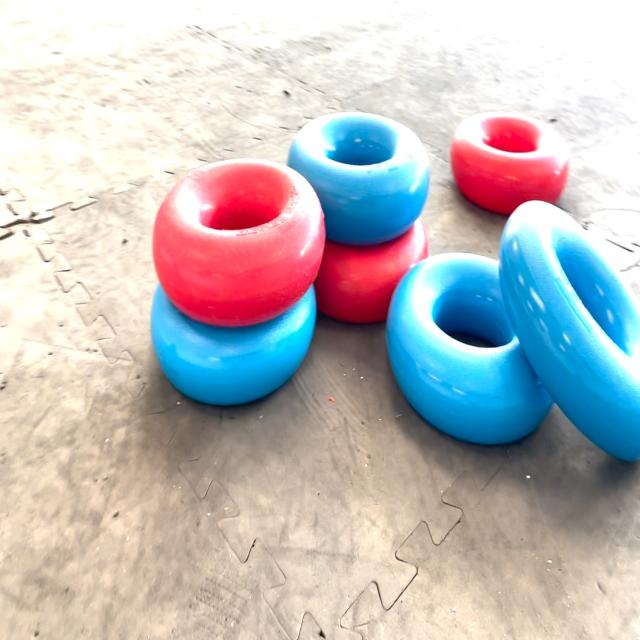Blue-Ring: (499, 200, 640, 460), (386, 253, 552, 444), (151, 284, 316, 404), (289, 113, 430, 244)
Red-Ring: (152, 160, 325, 327), (450, 111, 569, 213), (314, 218, 429, 322)
